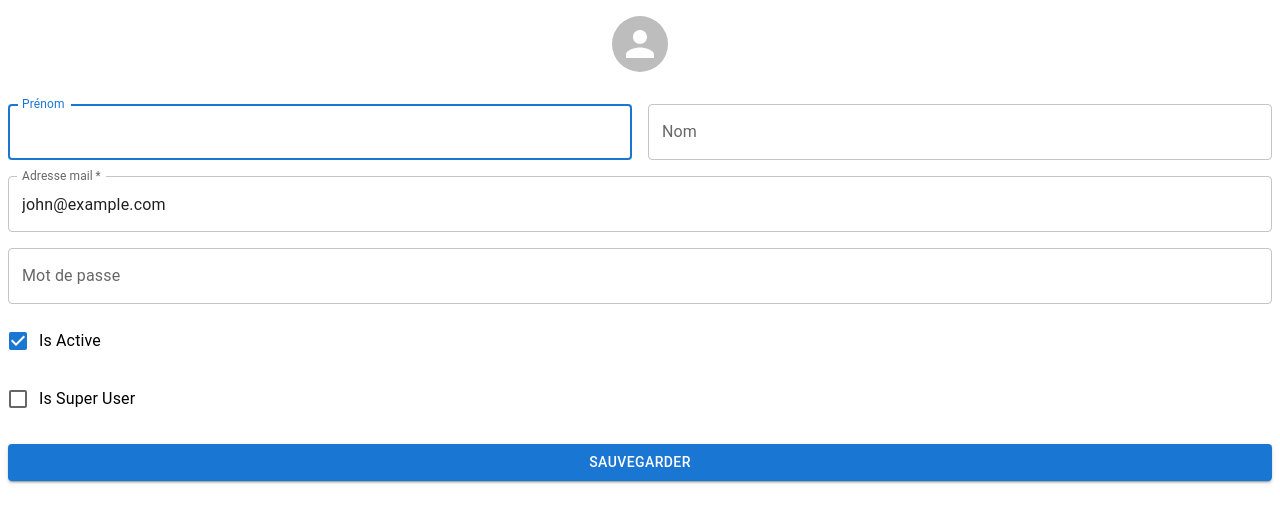
Scenario: should display required helper text
The width and height of the screenshot is (1280, 523).
Clear the field labelled "Adresse mail *" at (640,204), box [8, 176, 1272, 232]
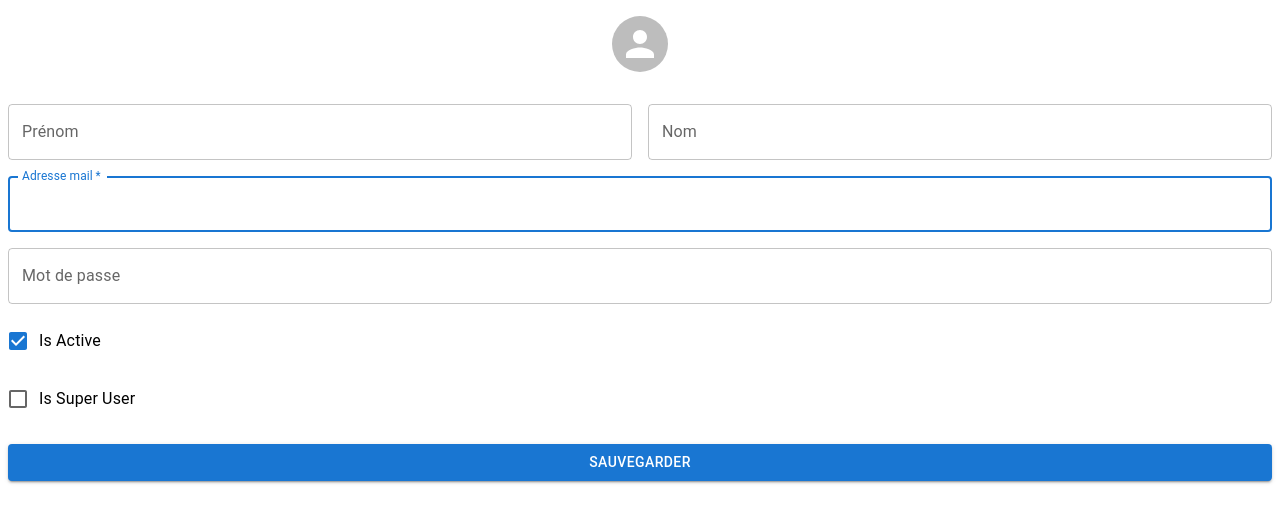
Click the button "Sauvegarder".
click(640, 462)  # box [8, 444, 1272, 480]
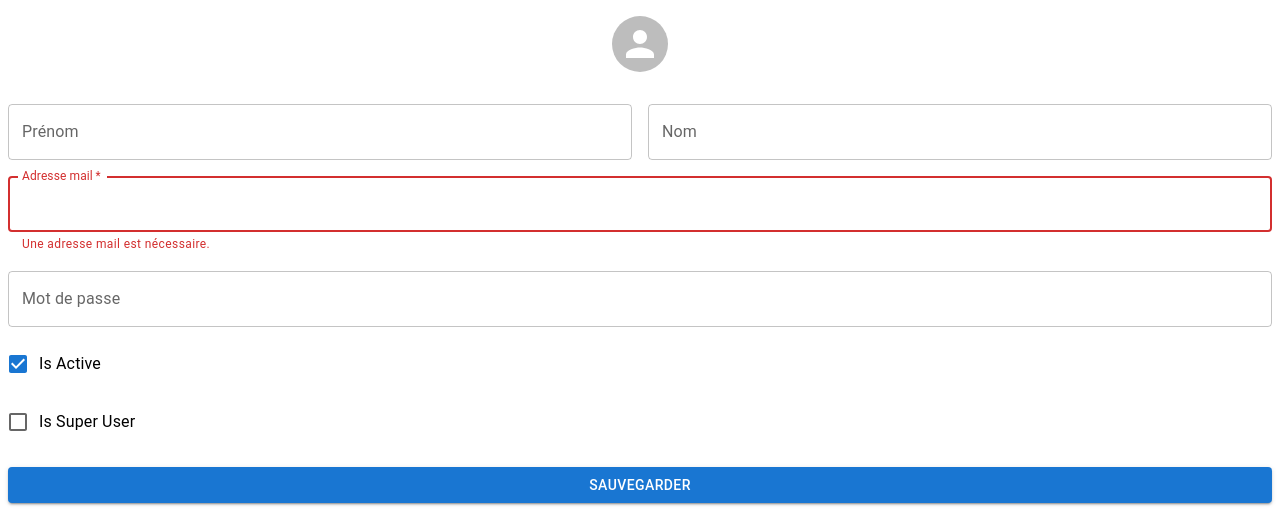
expect the text "Une adresse mail est nécessaire." is shown: met, box [22, 237, 210, 251]
